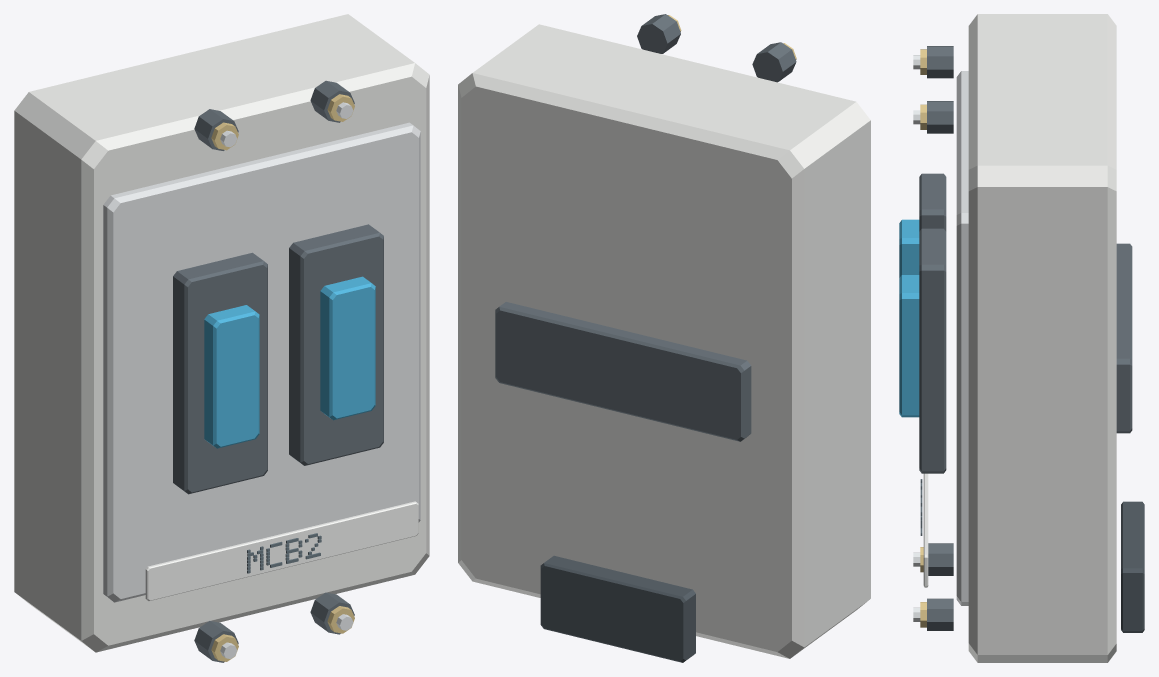
The model's file is mcb2P.glb.
3 renders of one model, left to right at view 1: azimuth 30°, elevation 25°; view 2: azimuth 150°, elevation 25°; view 3: azimuth 270°, elevation 25°, orthographic. The views are drawn at different scales.
Visible parts, largest first — view 1: mcb2P-board; view 2: mcb2P-board; view 3: mcb2P-board.
Boxes of the visible parts, bbox=[...] form: mcb2P-board: bbox=[14, 14, 429, 662]; mcb2P-board: bbox=[458, 14, 870, 662]; mcb2P-board: bbox=[899, 14, 1144, 662].
Bounding box in the file's own units: 2.17 × 3.23 × 1.36.
